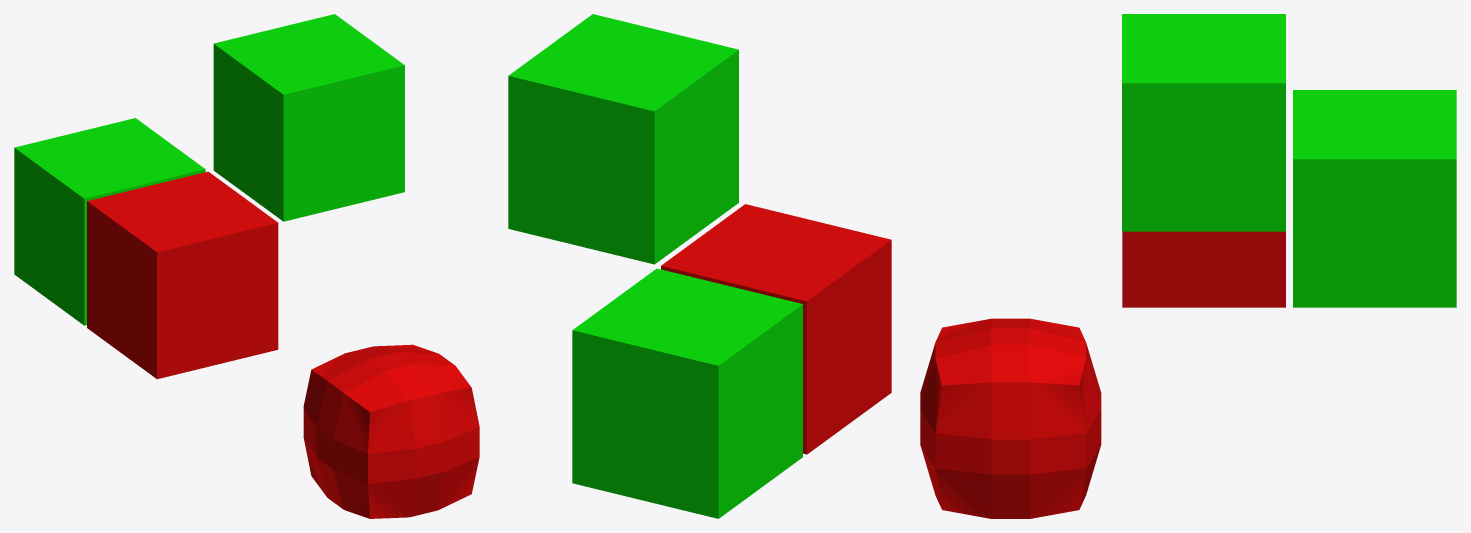
Rendered from cubes_with_mirroring_and_pivot.fbx.
The picture shows the model from 3 angles, left to right: view 1: azimuth 30°, elevation 25°; view 2: azimuth 150°, elevation 25°; view 3: azimuth 270°, elevation 25°; orthographic projection. The views are drawn at different scales.
Parts seen in each view (by area): view 1: Cube1 (×2), Cube3, Cube2; view 2: Cube2, Cube1, Cube3; view 3: Cube1 (×2), Cube2, Cube3.
Boxes of the visible parts, left/top/right/bottom form: Cube1 (×2): left=213, top=14, right=479, bottom=518; Cube3: left=87, top=171, right=278, bottom=379; Cube2: left=14, top=118, right=205, bottom=325; Cube2: left=572, top=268, right=802, bottom=518; Cube1: left=508, top=14, right=738, bottom=264; Cube3: left=661, top=204, right=891, bottom=454; Cube1 (×2): left=920, top=14, right=1285, bottom=518; Cube2: left=1293, top=90, right=1456, bottom=307; Cube3: left=1122, top=231, right=1285, bottom=307.
Bounding box in the file's own units: 0.2093 × 0.305 × 0.3277.
